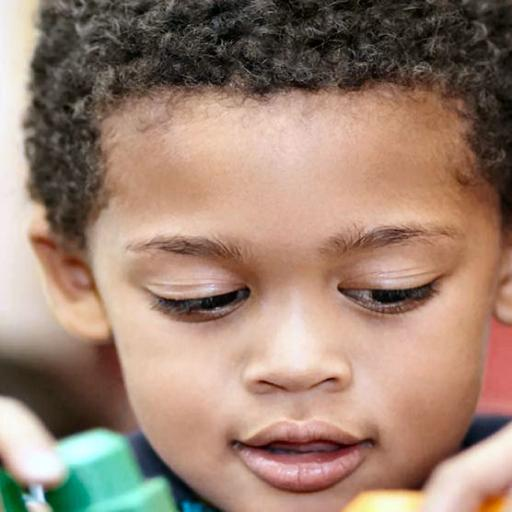Autism: (8, 12, 506, 512)
